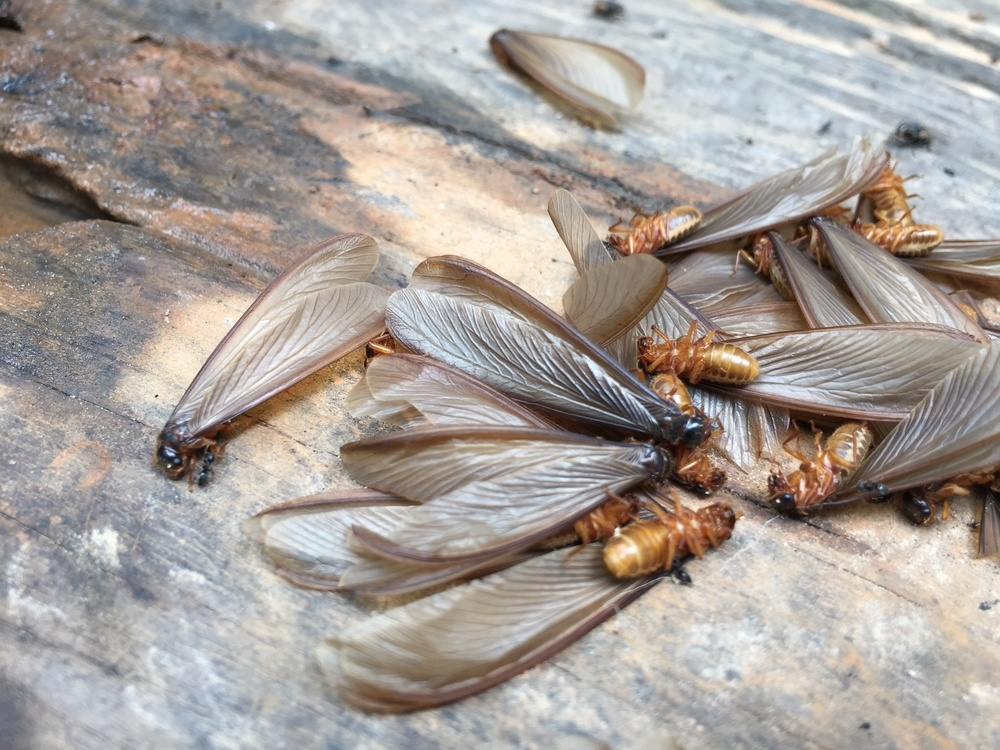flying termite: (124, 216, 396, 467)
